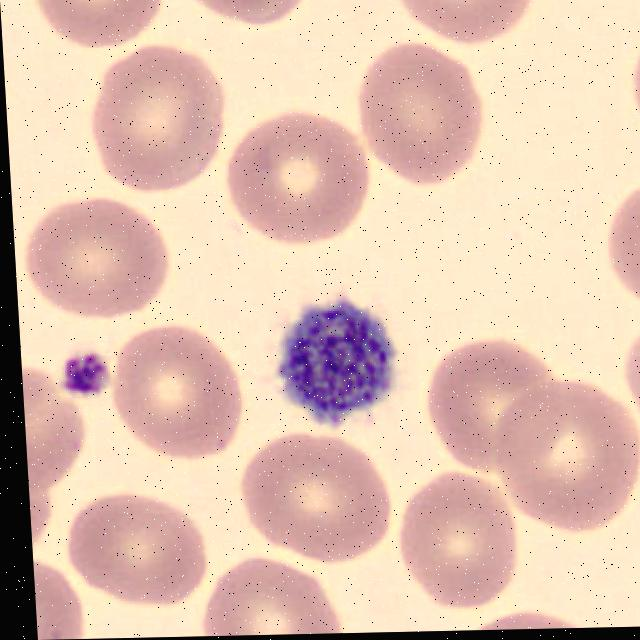platelets: (267, 296, 398, 423), (57, 343, 107, 401)
rbc: (213, 102, 381, 249), (225, 429, 400, 567), (102, 322, 257, 472), (486, 381, 640, 530), (13, 191, 177, 330), (82, 44, 228, 193), (412, 330, 563, 471), (351, 42, 488, 192), (65, 496, 213, 612), (396, 472, 520, 609), (183, 553, 352, 636), (29, 0, 174, 66), (386, 0, 548, 58), (21, 361, 84, 493), (597, 171, 640, 323), (599, 26, 640, 162), (609, 315, 640, 483), (184, 0, 321, 38), (33, 556, 91, 640), (456, 605, 616, 631), (27, 458, 69, 553), (2, 40, 21, 176)
